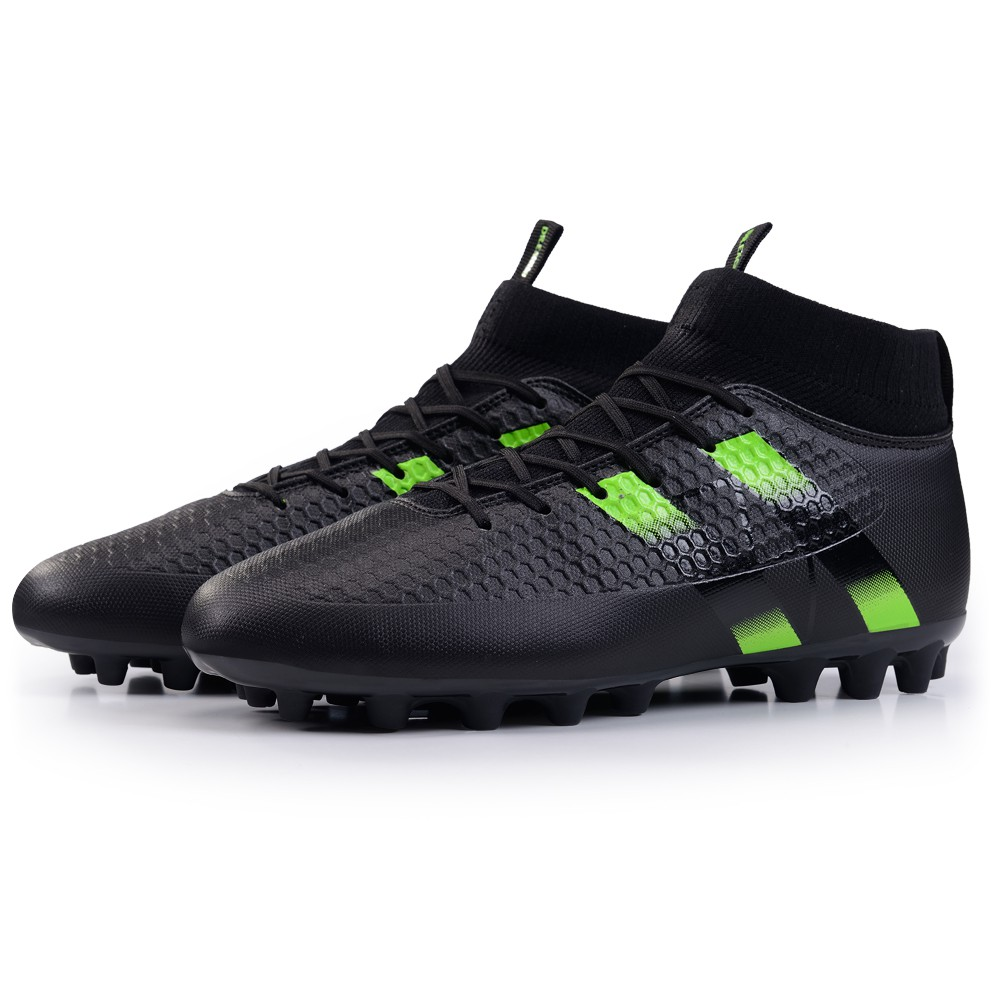soccer shoes: (179, 217, 976, 736), (12, 219, 670, 696)
